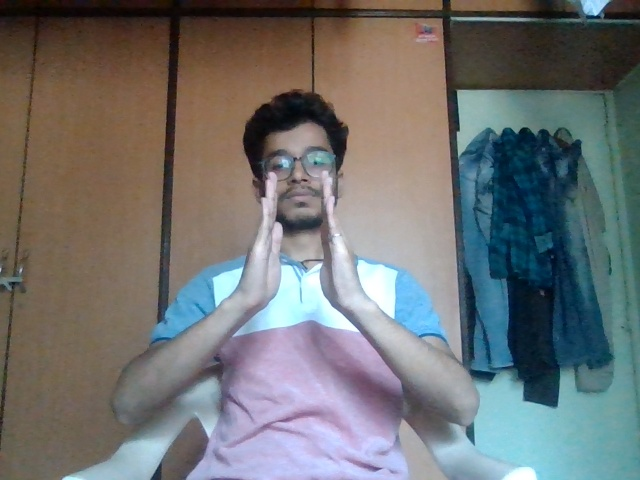morning: (235, 162, 385, 322)
